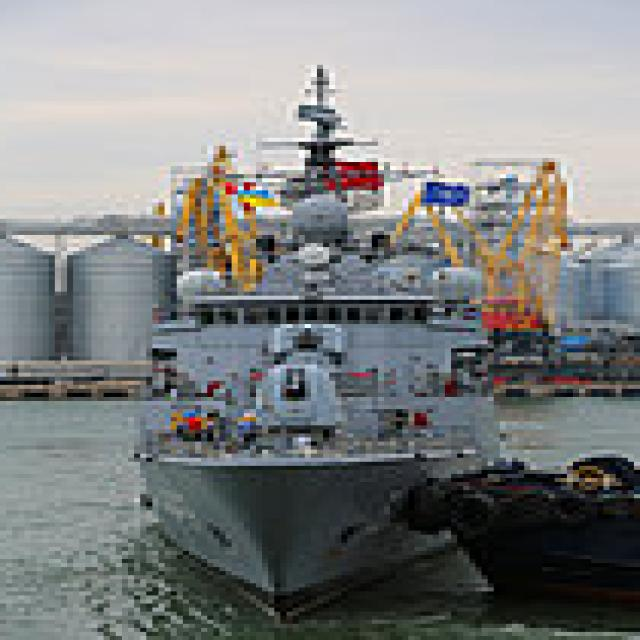Warship: (128, 56, 524, 620)
